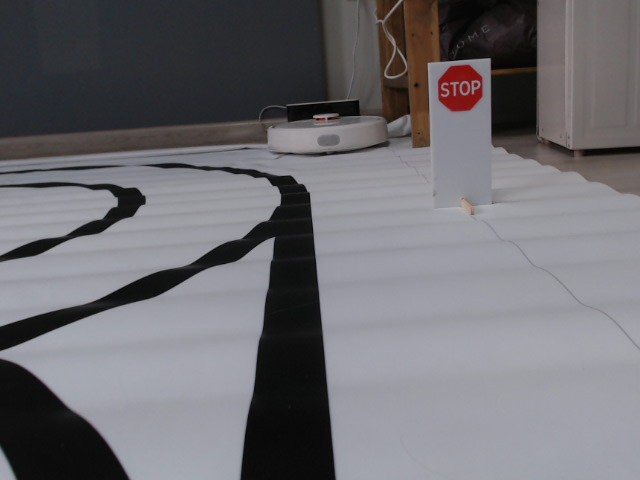Stop: (437, 63, 483, 112)
